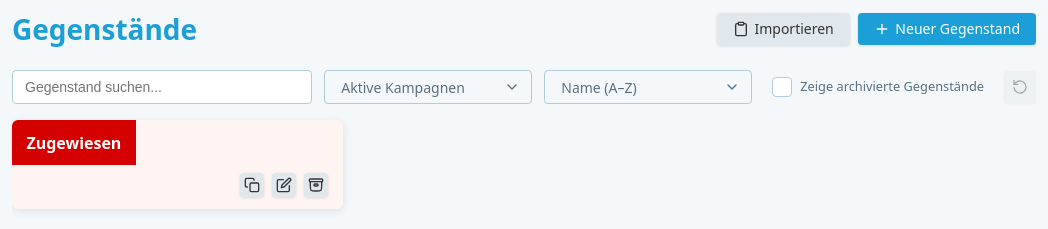
Test case: ItemsView – card interactions › filters items by unassigned status
The width and height of the screenshot is (1048, 229).
Select "Nicht zugewiesen" in the 1st dropdown at coordinates (428, 87), box [325,71,531,103]
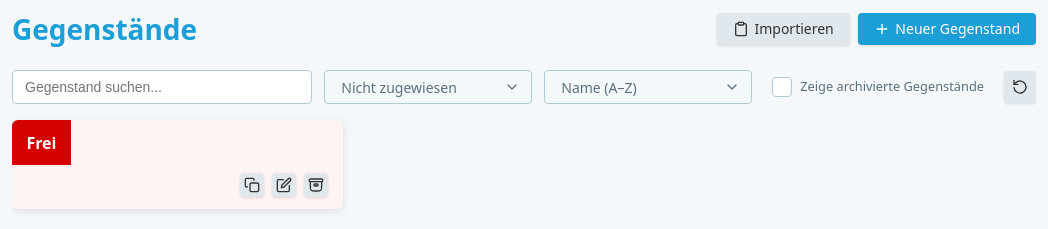
Expected: the text "Frei" is shown, [26,131,56,155]
